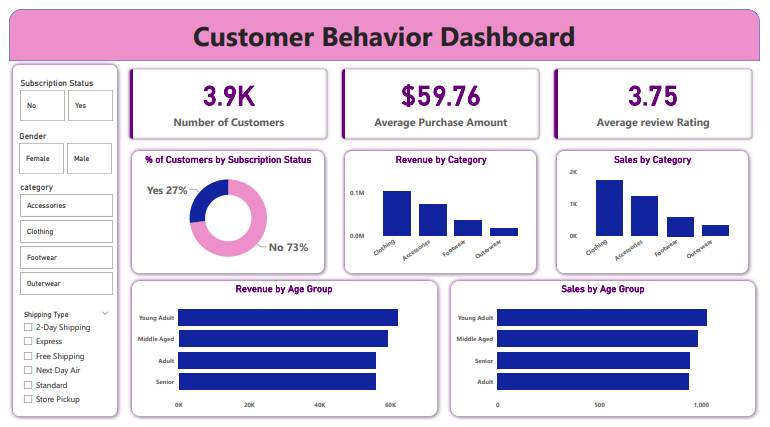

This screenshot's page, from the dashboard's own definition file:
{"tool":"powerbi","page":{"name":"Page 1","canvas":[1500,820],"ordinal":0},"visuals":[{"type":"shape","box":[0,0,1500.3,103.5],"z":0},{"type":"cardVisual","fields":{"Data":["customer_analytics shopping_behavior.Number of Customers","customer_analytics shopping_behavior.Average Purchase Amount","customer_analytics shopping_behavior.Average review Rating"]},"box":[225.5,103.5,1274.8,171.6],"z":1000},{"type":"shape","box":[238.2,275.1,398.5,259.5],"z":2000},{"type":"textbox","box":[0,11.3,1500.3,82.2],"z":3000},{"type":"shape","box":[662.2,275.1,398.5,259.5],"z":4000},{"type":"shape","box":[1086.2,275.1,398.5,259.5],"z":5000},{"type":"donutChart","title":"% of Customers by Subscription Status","fields":{"Category":["customer_analytics shopping_behavior.subscription_status"],"Y":["CountNonNull(customer_analytics shopping_behavior.customer_id)"]},"box":[251,289.3,374.4,234],"z":6000},{"type":"clusteredColumnChart","title":"Revenue by Category","fields":{"Category":["customer_analytics shopping_behavior.category"],"Y":["Sum(customer_analytics shopping_behavior.purchase_amount)"]},"box":[676.4,289.3,374.4,234],"z":7000},{"type":"clusteredColumnChart","title":"Sales by Category","fields":{"Category":["customer_analytics shopping_behavior.category"],"Y":["CountNonNull(customer_analytics shopping_behavior.customer_id)"]},"box":[1099,289.3,374.4,234],"z":8000},{"type":"shape","box":[0,103.5,225.5,716.1],"z":9000},{"type":"advancedSlicerVisual","fields":{"Values":["customer_analytics shopping_behavior.subscription_status"]},"box":[18.4,137.6,194.3,90.8],"z":10000},{"type":"advancedSlicerVisual","fields":{"Values":["customer_analytics shopping_behavior.gender"]},"box":[15.6,243.9,194.3,90.8],"z":11000},{"type":"advancedSlicerVisual","fields":{"Values":["customer_analytics shopping_behavior.category"]},"box":[18.4,346,194.3,232.6],"z":12000},{"type":"slicer","fields":{"Values":["customer_analytics shopping_behavior.shipping_type"]},"box":[17,595.6,194.3,212.7],"z":13000},{"type":"shape","box":[238.2,534.6,625.4,285],"z":14000},{"type":"shape","box":[873.5,534.6,625.4,285],"z":15000},{"type":"clusteredBarChart","title":"Revenue by Age Group","fields":{"Category":["customer_analytics shopping_behavior.age_group"],"Y":["Sum(customer_analytics shopping_behavior.purchase_amount)"]},"box":[251,547.4,597,260.9],"z":16000},{"type":"clusteredBarChart","title":"Sales by Age Group","fields":{"Category":["customer_analytics shopping_behavior.age_group"],"Y":["CountNonNull(customer_analytics shopping_behavior.customer_id)"]},"box":[887.7,547.4,597,260.9],"z":16001}]}

Visuals, with their boxes in screenshot pixels (x1, y1, x2, y2), scaled from the page's 1500x820 canvas onto the 770x427 screenshot:
shape: rect(0, 0, 769, 54)
cardVisual - customer_analytics shopping_behavior.Number of Customers x customer_analytics shopping_behavior.Average Purchase Amount: rect(116, 54, 769, 143)
shape: rect(122, 143, 327, 278)
textbox: rect(0, 6, 769, 49)
shape: rect(340, 143, 544, 278)
shape: rect(558, 143, 762, 278)
"% of Customers by Subscription Status" donutChart: rect(129, 151, 321, 272)
"Revenue by Category" clusteredColumnChart: rect(347, 151, 539, 272)
"Sales by Category" clusteredColumnChart: rect(564, 151, 756, 272)
shape: rect(0, 54, 116, 426)
advancedSlicerVisual - customer_analytics shopping_behavior.subscription_status: rect(9, 72, 109, 119)
advancedSlicerVisual - customer_analytics shopping_behavior.gender: rect(8, 127, 108, 174)
advancedSlicerVisual - customer_analytics shopping_behavior.category: rect(9, 180, 109, 301)
slicer - customer_analytics shopping_behavior.shipping_type: rect(9, 310, 108, 421)
shape: rect(122, 278, 443, 426)
shape: rect(448, 278, 769, 426)
"Revenue by Age Group" clusteredBarChart: rect(129, 285, 435, 421)
"Sales by Age Group" clusteredBarChart: rect(456, 285, 762, 421)
